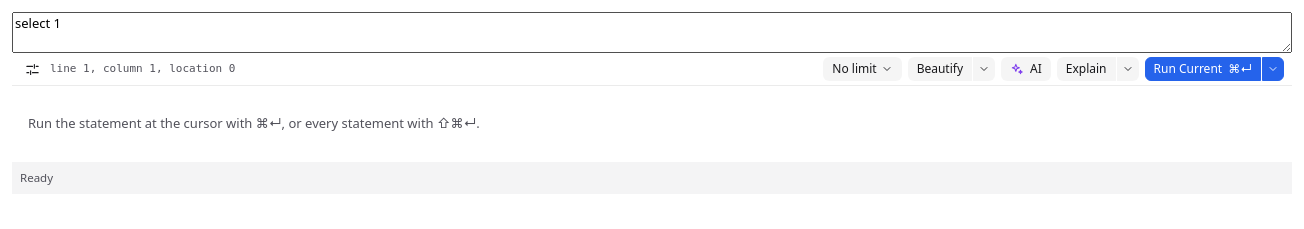
it: switches the default run and its shortcut labels
The width and height of the screenshot is (1304, 229).
Step 1. Click the button named "Run options" → [1273, 69], box [1262, 57, 1284, 81]
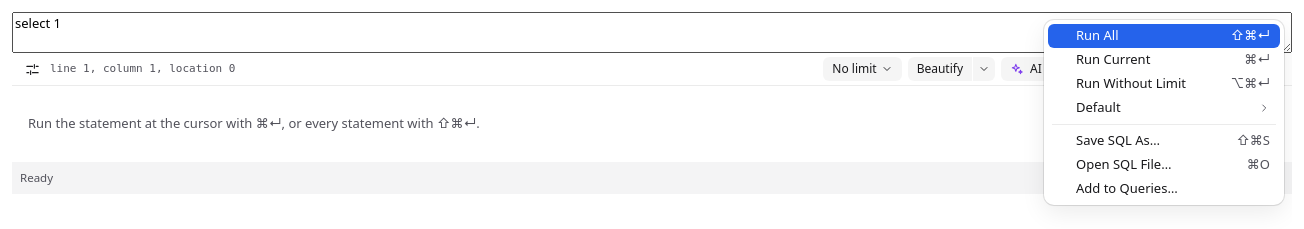
Step 2. Click the menu item "Default" → [1164, 108], box [1048, 96, 1280, 120]
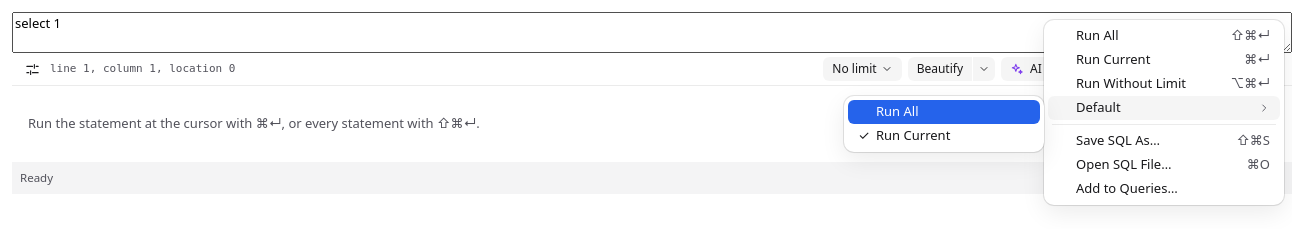
Step 3. Click the menu item "Run All" → [944, 112], box [848, 100, 1040, 124]
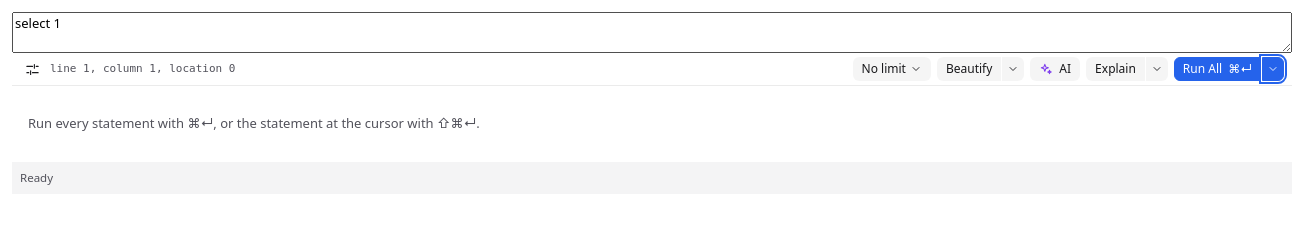
Now the button with aria-label "Run all statements" shows "Run All"
Step 4. Click the button with aria-label "Run all statements" → [1217, 69], box [1174, 57, 1261, 81]
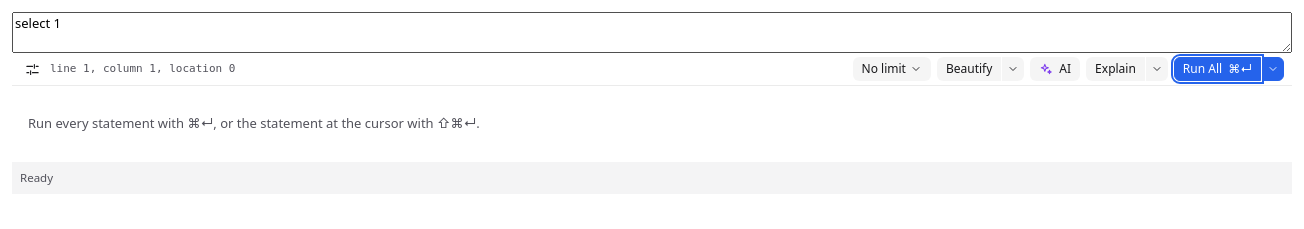
Step 5. Click the button named "Run options" → [1273, 69], box [1262, 57, 1284, 81]
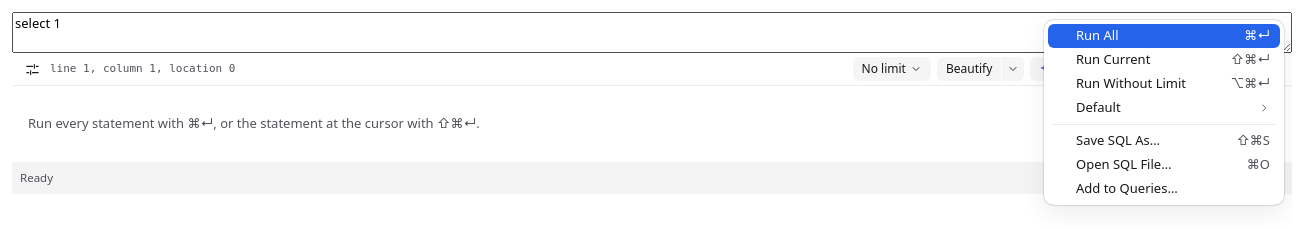
Now the menu item "Run All ⌘↵" is shown, box [1048, 24, 1280, 48]
Now the menu item "Run Current ⇧⌘↵" is shown, box [1048, 48, 1280, 72]
